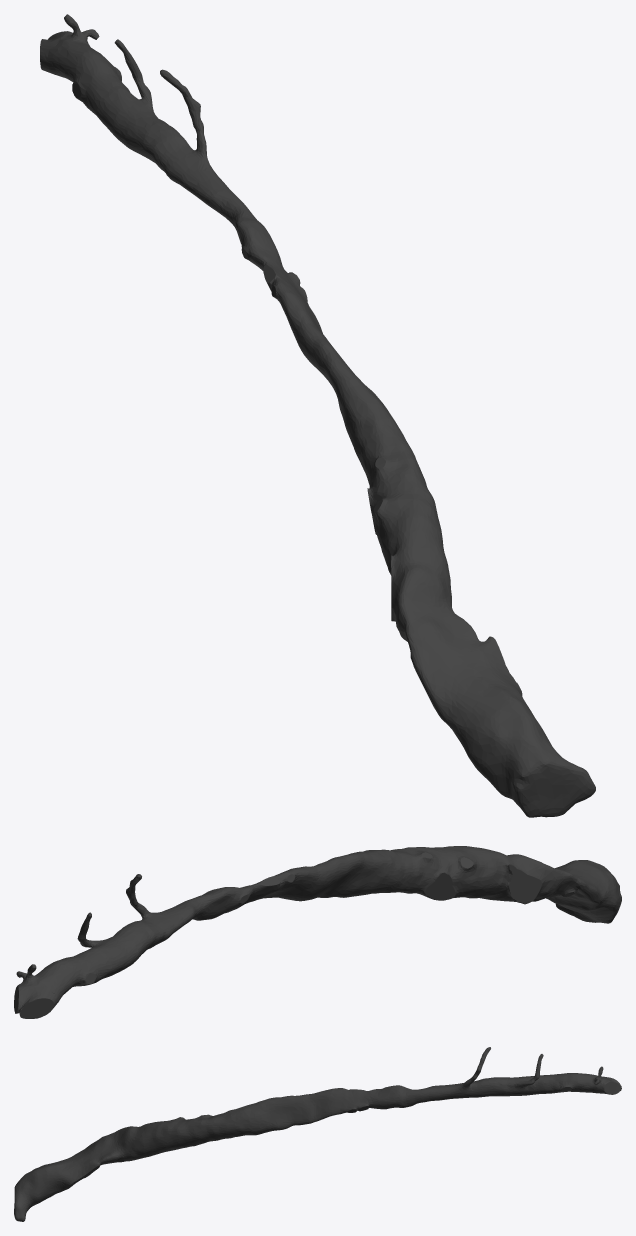
The model's file is Liver_vena_cava.glb.
3 renders of one model, top to bottom at view 1: azimuth 30°, elevation 25°; view 2: azimuth 150°, elevation 25°; view 3: azimuth 270°, elevation 25°, orthographic. The views are drawn at different scales.
Parts seen in each view (by area): view 1: Liver_vena_cava; view 2: Liver_vena_cava; view 3: Liver_vena_cava.
Boxes of the visible parts, bbox=[...] form: Liver_vena_cava: bbox=[40, 14, 595, 817]; Liver_vena_cava: bbox=[14, 846, 621, 1018]; Liver_vena_cava: bbox=[14, 1047, 621, 1221].
Size of the model in its own units: 0.565 by 1.09 by 3.15.
Materials: 1 (1 with a texture image).
